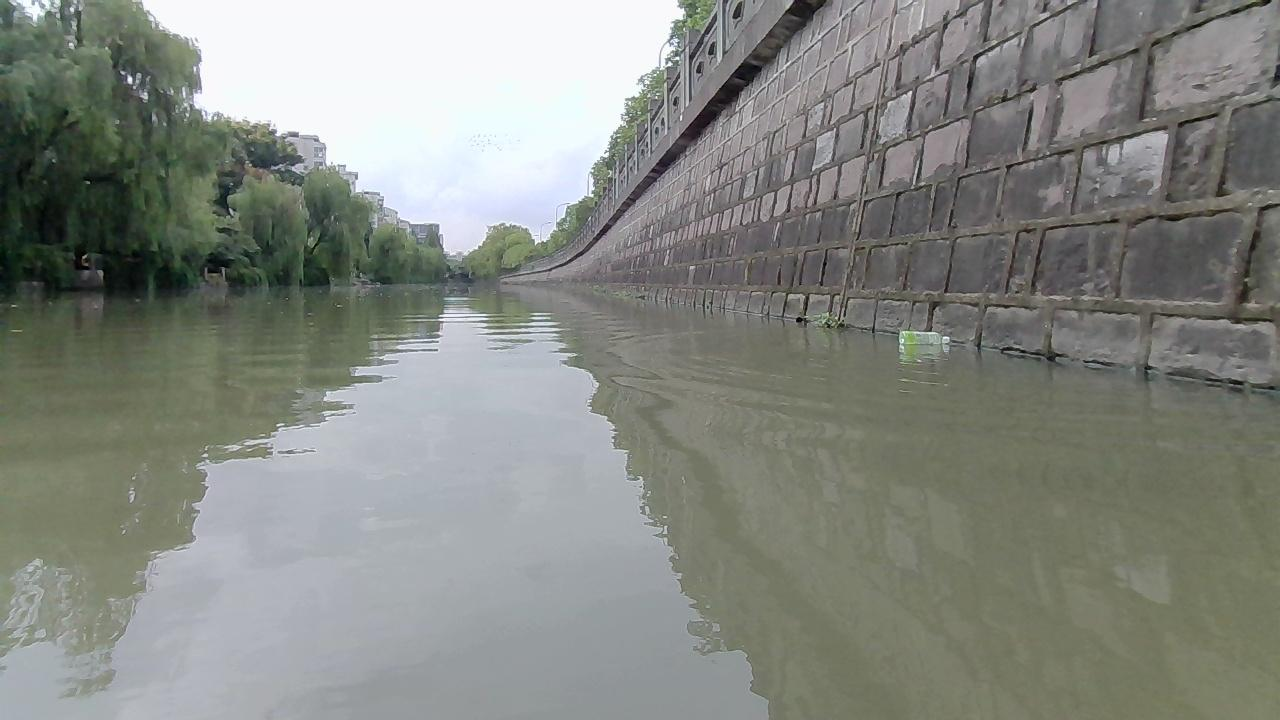bottle: (897, 328, 949, 344)
